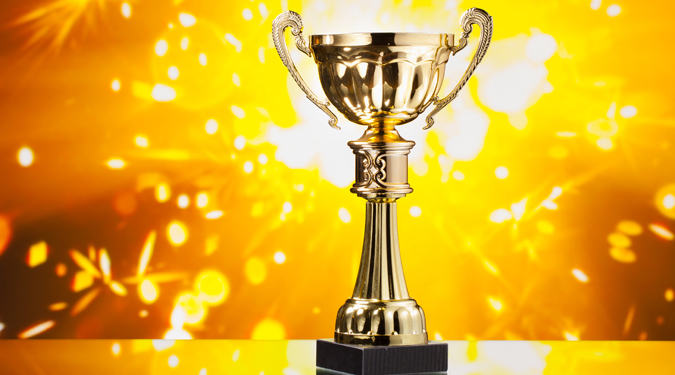trophy: (271, 6, 495, 375)
